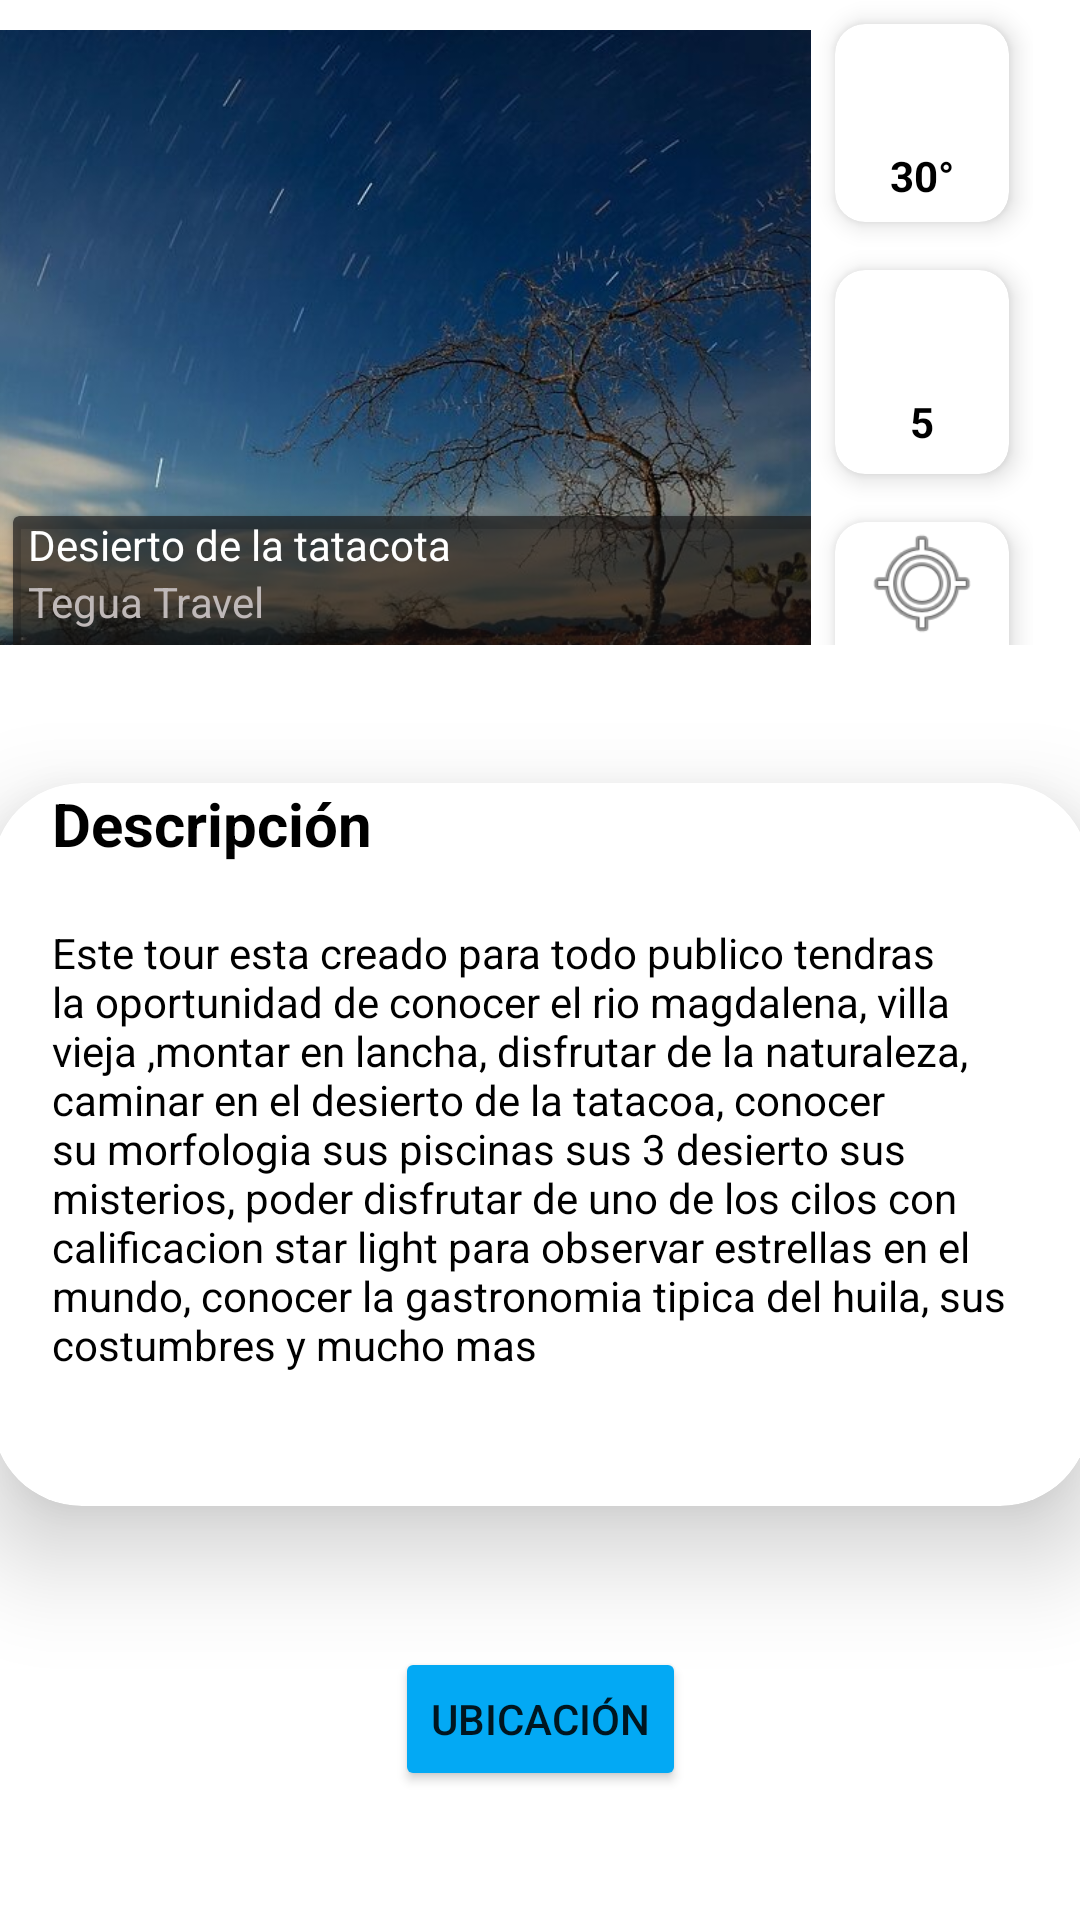

Icons on this 1080 x 1920 Android screen, each with the point to tap as (x,y):
mylocation: (922,583)
